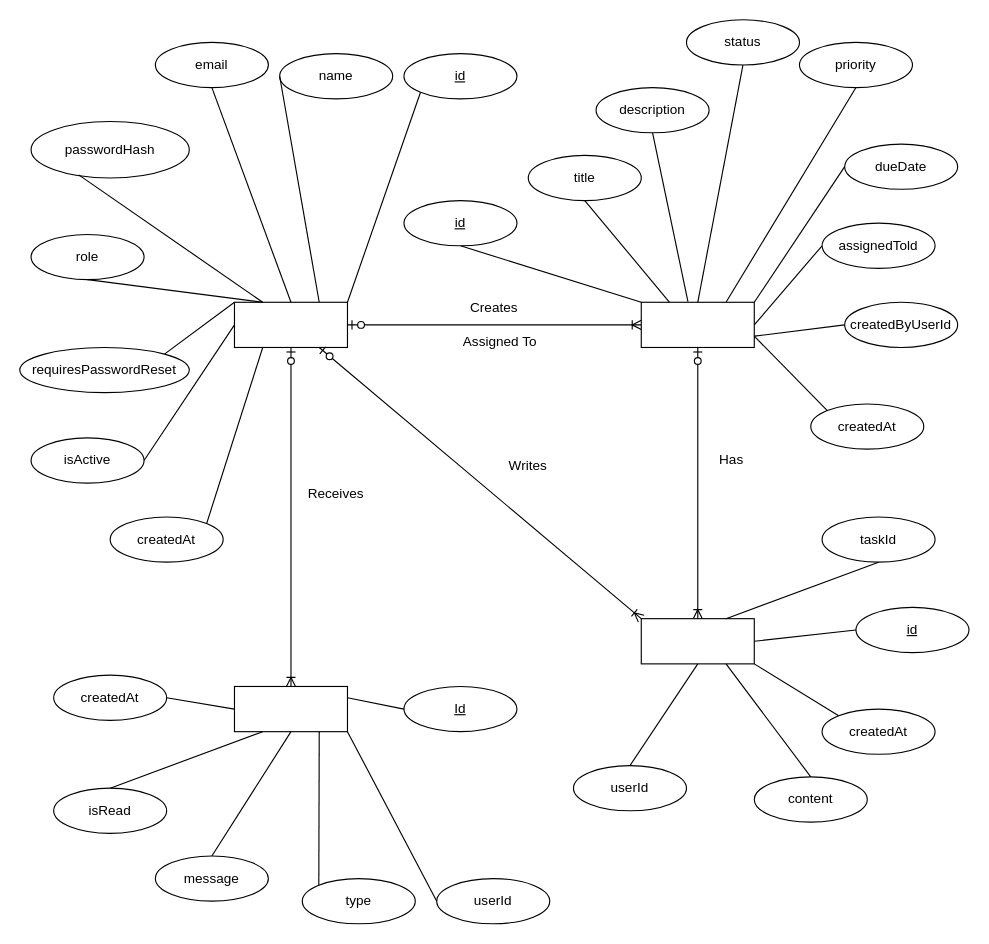
The diagram is 989 pixels wide and 944 high, and some of its shapes have lost their labels. Each missing label, with the centre of its shape:
"Comment" goes at point 697,641.
"Notification" goes at point 290,708.
"Task" goes at point 697,324.
"User" goes at point 290,324.
